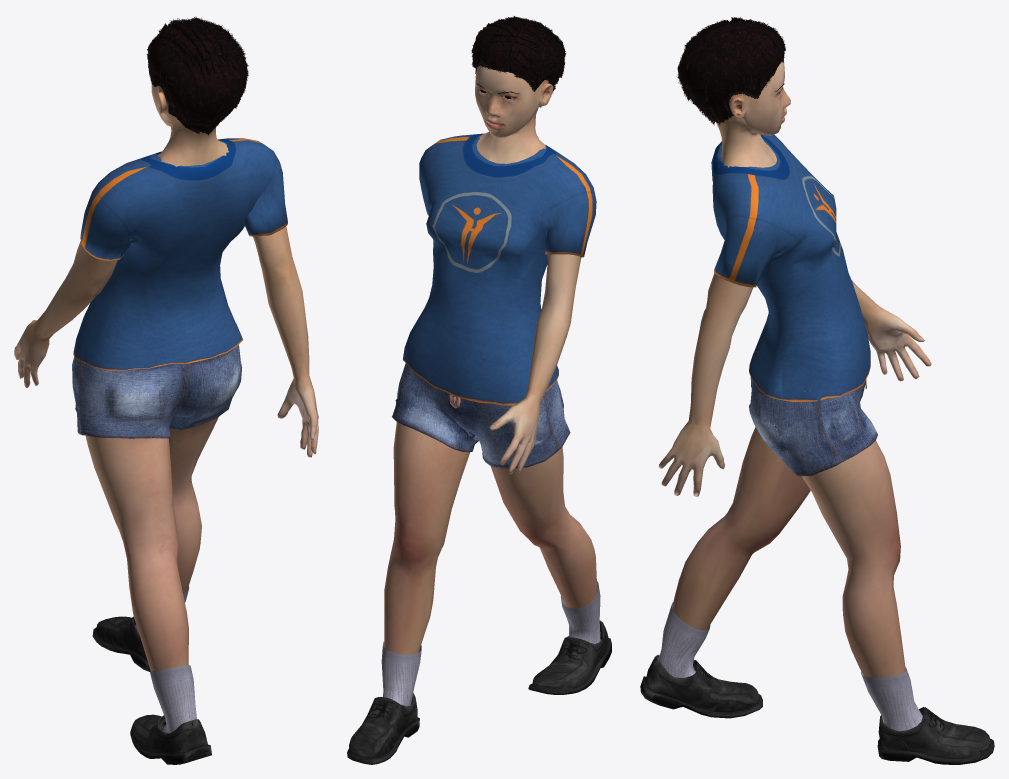
File: walking_4.gltf
3 views of the same model, side by side, from view 1: azimuth 30°, elevation 25°; view 2: azimuth 150°, elevation 25°; view 3: azimuth 270°, elevation 25° (orthographic). The views are drawn at different scales.
Visible parts, largest first — view 1: walking; view 2: walking; view 3: walking.
Part boxes in pixels (bbox=[...]): walking: bbox=[14, 16, 318, 764]; walking: bbox=[347, 16, 611, 764]; walking: bbox=[640, 17, 994, 764].
Size of the model in its own units: 0.389 by 1.37 by 0.6188.
6 materials, 6 textured.
